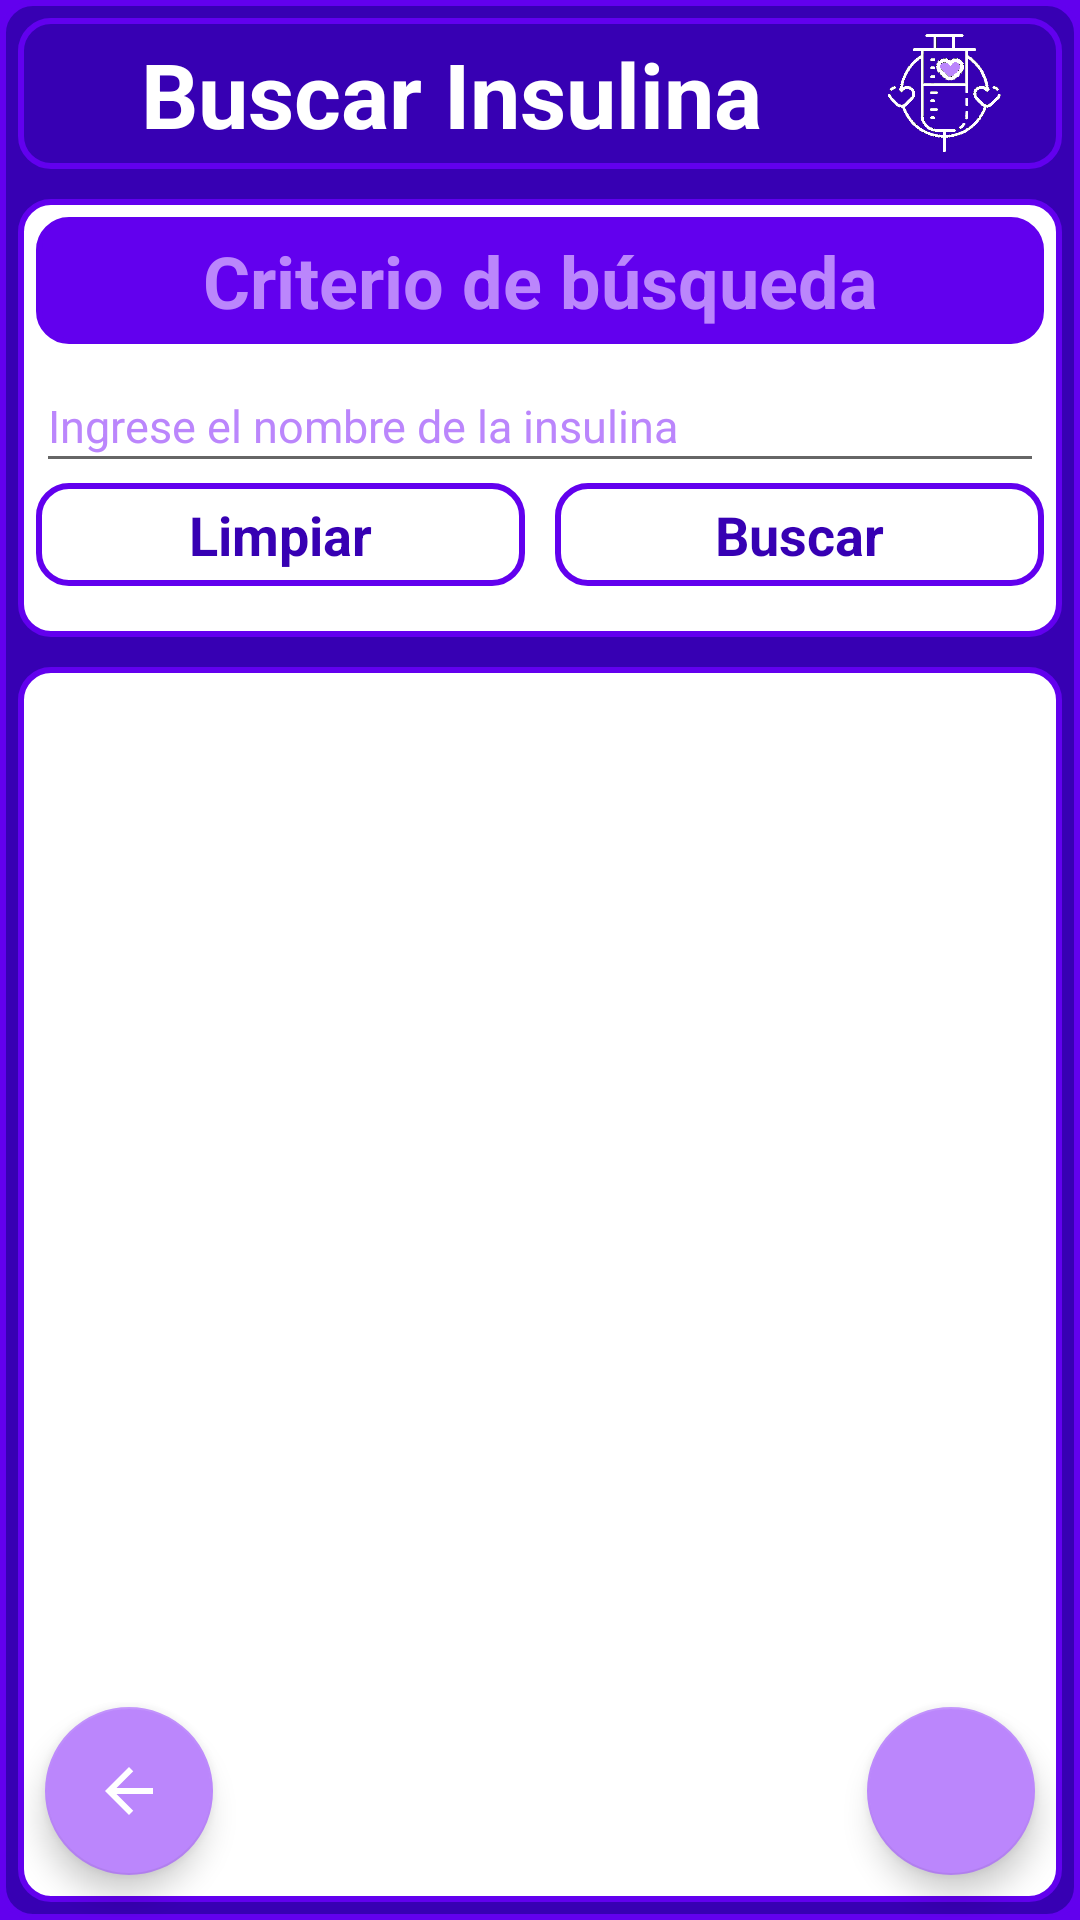

Icon click points for this 1080x1920 phone screenshot, format (x,y):
insulina contraste: (944,93)
